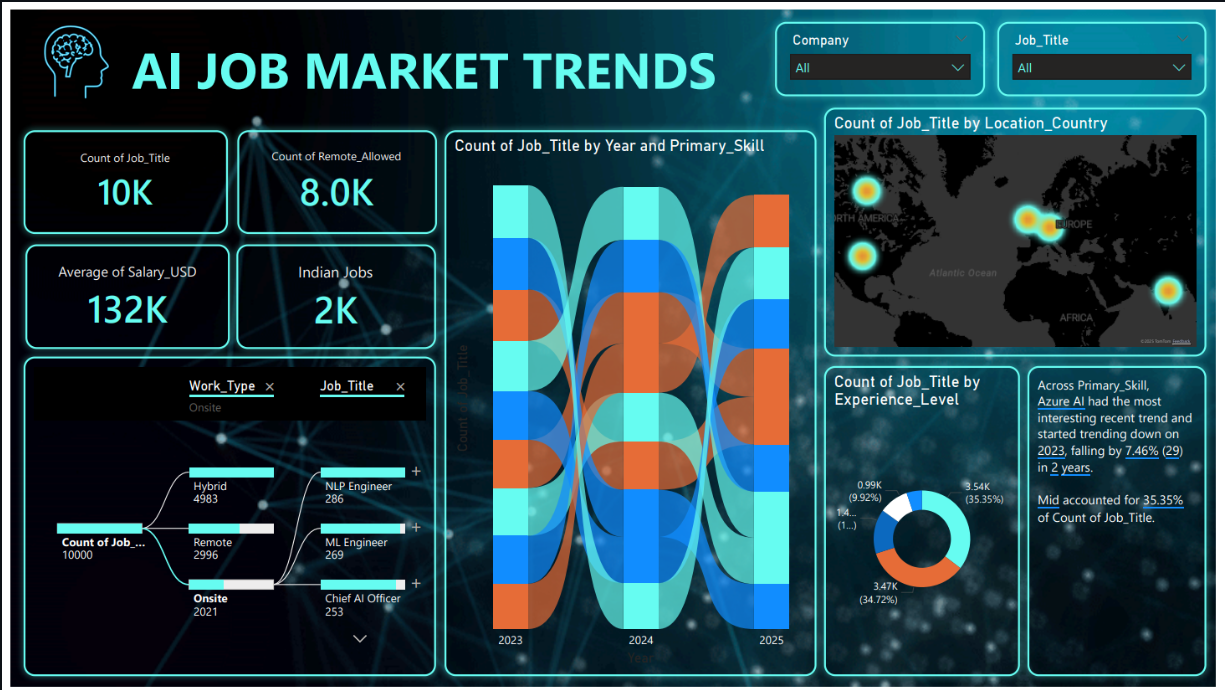

The dashboard page shown, as its layout file describes it:
{"tool":"powerbi","page":{"name":"Page 1","canvas":[1280,720],"ordinal":0},"visuals":[{"type":"ribbonChart","fields":{"Y":["CountNonNull(AI Jobs Dataset.Job_Title)"],"Category":["AI Jobs Dataset.Date_Posted.Variation.Date Hierarchy.Year"],"Series":["AI Jobs Dataset.Primary_Skill"]},"box":[459.7,159.1,391.3,547.2],"z":0},{"type":"decompositionTreeVisual","fields":{"Analyze":["CountNonNull(AI Jobs Dataset.Job_Title)"],"ExplainBy":["AI Jobs Dataset.Work_Type","AI Jobs Dataset.Job_Title","AI Jobs Dataset.Experience_Level"]},"box":[33.4,386.5,415.1,319.7],"z":1},{"type":"azureMap","fields":{"Category":["AI Jobs Dataset.Location_Country"]},"box":[865.3,159.1,415.1,267.2],"z":2},{"type":"donutChart","fields":{"Y":["CountNonNull(AI Jobs Dataset.Job_Title)"],"Category":["AI Jobs Dataset.Experience_Level"]},"box":[865.3,435.8,195.6,270.4],"z":3},{"type":"cardVisual","fields":{"Data":["CountNonNull(AI Jobs Dataset.Job_Title)"]},"box":[33.4,275.2,187.7,98.6],"z":4},{"type":"cardVisual","fields":{"Data":["AI Jobs Dataset.Indian Jobs"]},"box":[241.8,275.2,206.8,98.6],"z":5},{"type":"cardVisual","fields":{"Data":["Avg(AI Jobs Dataset.Salary_USD)"]},"box":[241.8,159.1,206.8,98.6],"z":6},{"type":"cardVisual","fields":{"Data":["CountNonNull(AI Jobs Dataset.Remote_Allowed)"]},"box":[33.4,159.1,187.7,98.6],"z":7},{"type":"textbox","box":[1073.7,435.8,194.1,270.4],"z":8},{"type":"image","box":[33,0,188,150],"z":9},{"type":"textbox","box":[256.1,38.2,572.6,90.7],"z":10},{"type":"slicer","fields":{"Values":["AI Jobs Dataset.Company"]},"box":[828.7,46.1,211.6,74.8],"z":11},{"type":"slicer","fields":{"Values":["AI Jobs Dataset.Job_Title"]},"box":[1056.2,46.1,211.6,74.8],"z":12}]}

Visuals, with their boxes in screenshot pixels (x1, y1, x2, y2), scaled from the page's 1280x720 canvas onto the 1225x690 screenshot:
ribbonChart - CountNonNull(AI Jobs Dataset.Job_Title) x AI Jobs Dataset.Date_Posted.Variation.Date Hierarchy.Year: detection(440, 152, 814, 677)
decompositionTreeVisual - CountNonNull(AI Jobs Dataset.Job_Title) x AI Jobs Dataset.Work_Type: detection(32, 370, 429, 677)
azureMap - AI Jobs Dataset.Location_Country: detection(828, 152, 1224, 409)
donutChart - CountNonNull(AI Jobs Dataset.Job_Title) x AI Jobs Dataset.Experience_Level: detection(828, 418, 1015, 677)
cardVisual - CountNonNull(AI Jobs Dataset.Job_Title): detection(32, 264, 212, 358)
cardVisual - AI Jobs Dataset.Indian Jobs: detection(231, 264, 429, 358)
cardVisual - Avg(AI Jobs Dataset.Salary_USD): detection(231, 152, 429, 247)
cardVisual - CountNonNull(AI Jobs Dataset.Remote_Allowed): detection(32, 152, 212, 247)
textbox: detection(1028, 418, 1213, 677)
image: detection(32, 0, 212, 144)
textbox: detection(245, 37, 793, 124)
slicer - AI Jobs Dataset.Company: detection(793, 44, 996, 116)
slicer - AI Jobs Dataset.Job_Title: detection(1011, 44, 1213, 116)
